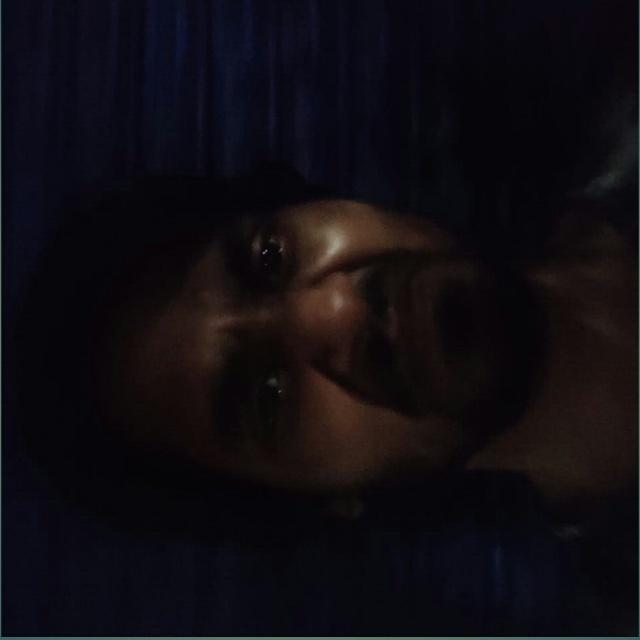Disgust: (109, 119, 539, 519)
